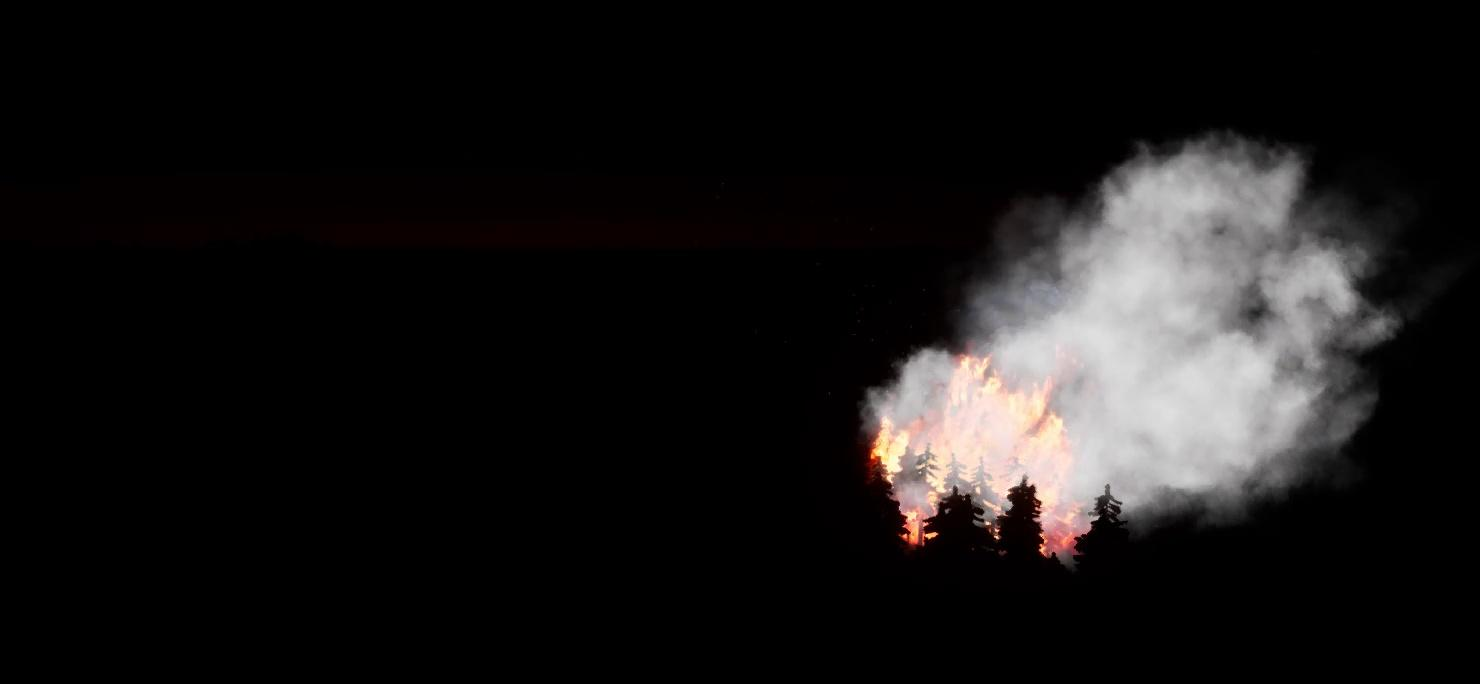fire: (873, 360, 1091, 558)
smoke: (853, 127, 1409, 540)
